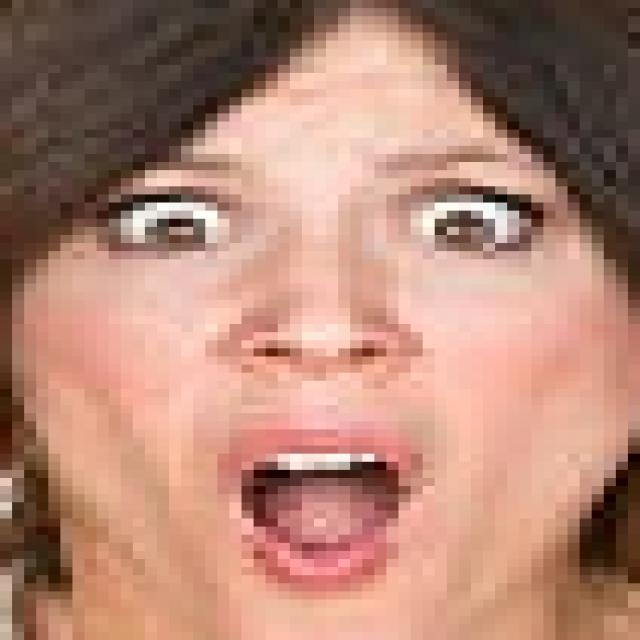Anxiety: (7, 0, 628, 632)
